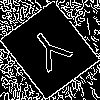Y: (25, 25, 80, 82)
